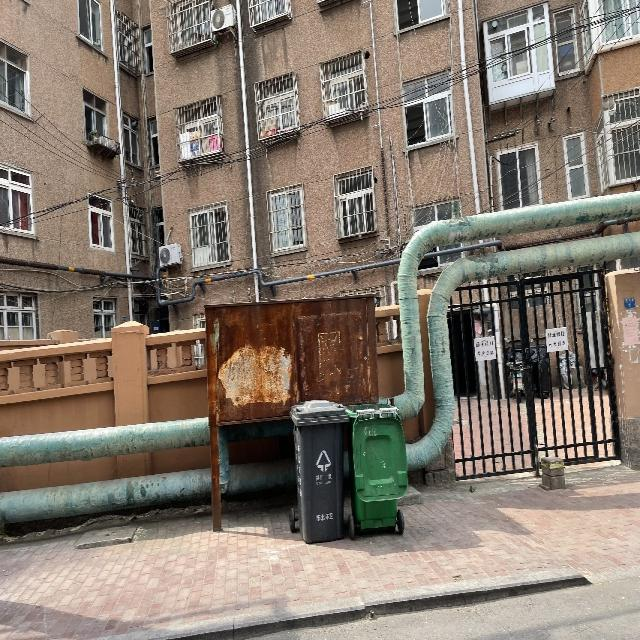garbage_bin: (289, 399, 347, 543), (345, 400, 408, 527)
